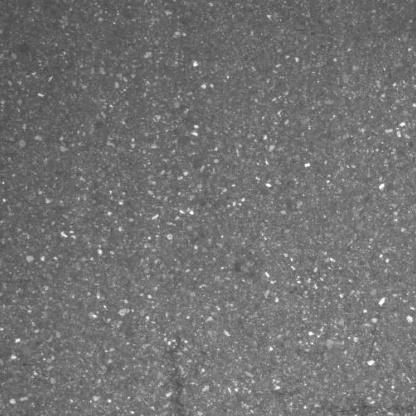Cracks: (166, 336, 193, 416), (295, 403, 416, 416)
